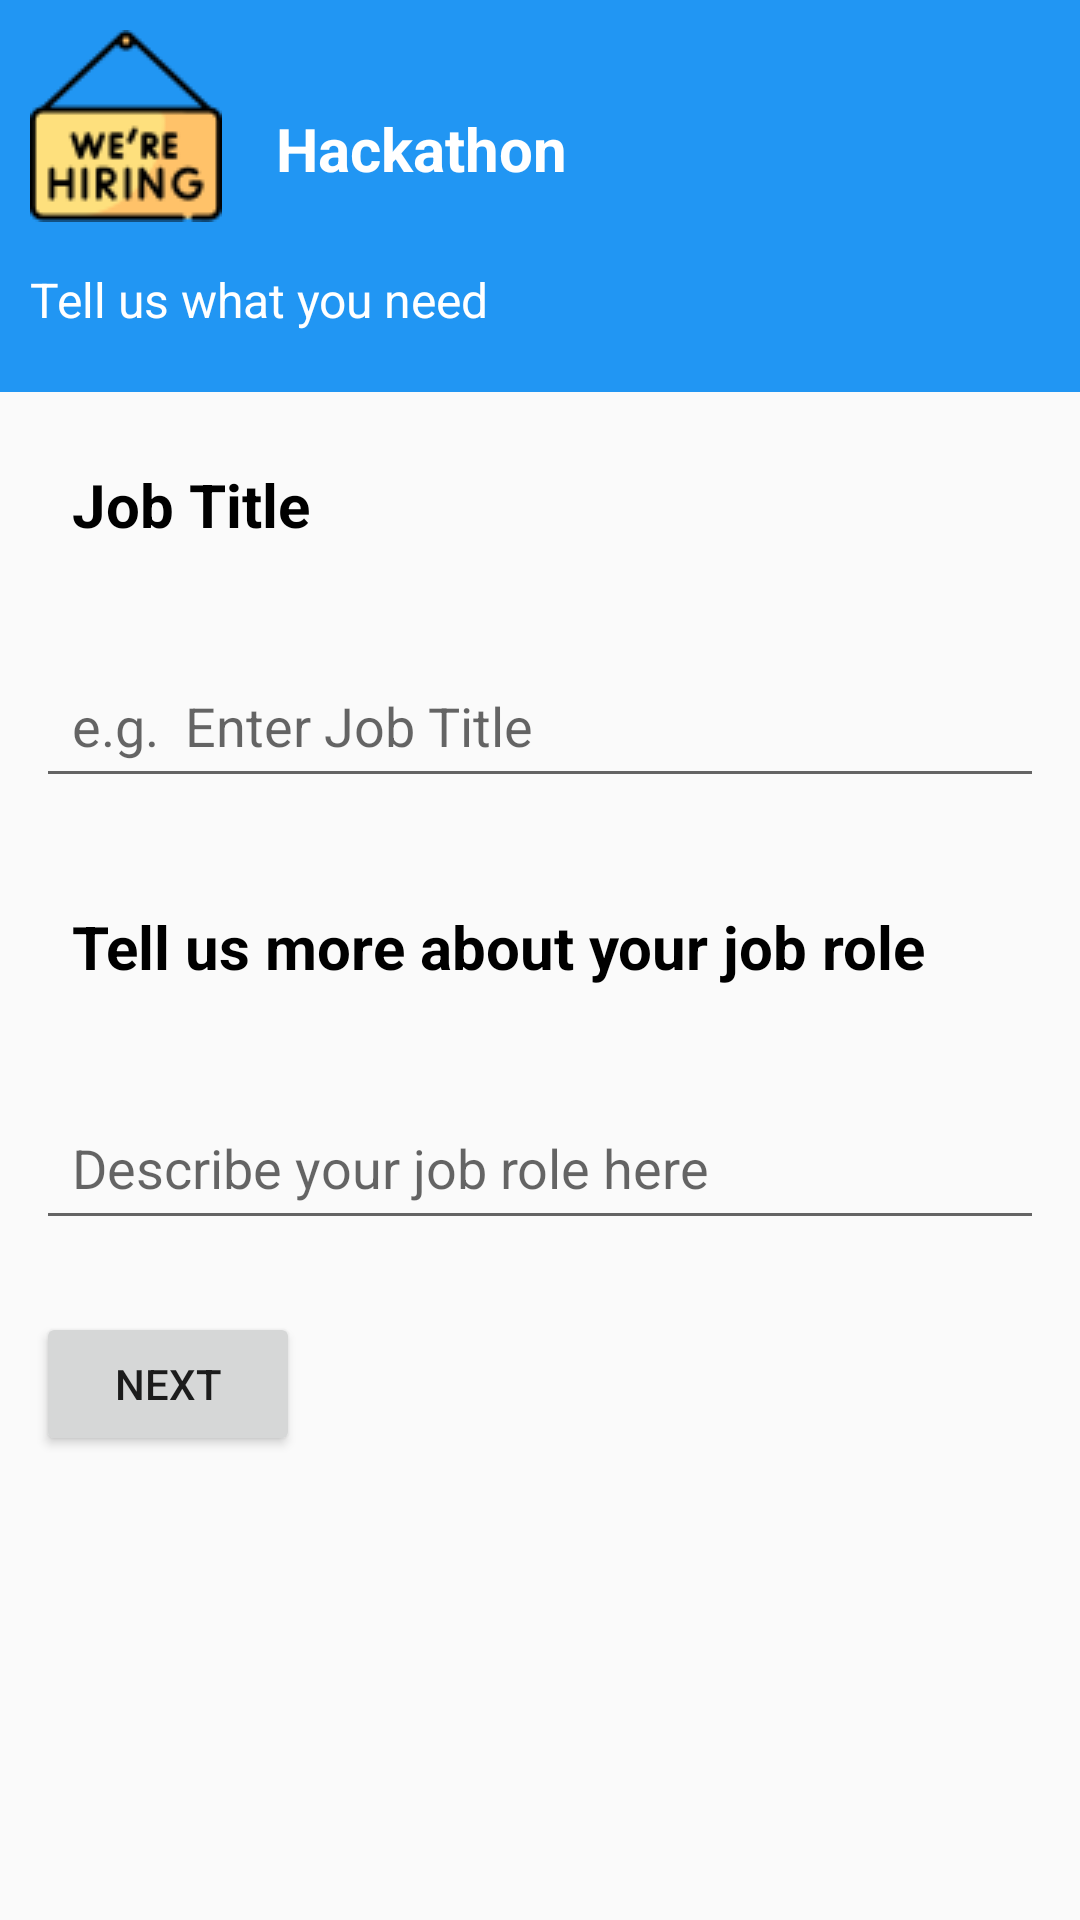

Where icons sit on this 1080 x 1920 app screen, as {"left": x1, "top": y1, "right": x2, "bottom": y2}:
announcement: {"left": 30, "top": 30, "right": 222, "bottom": 222}
